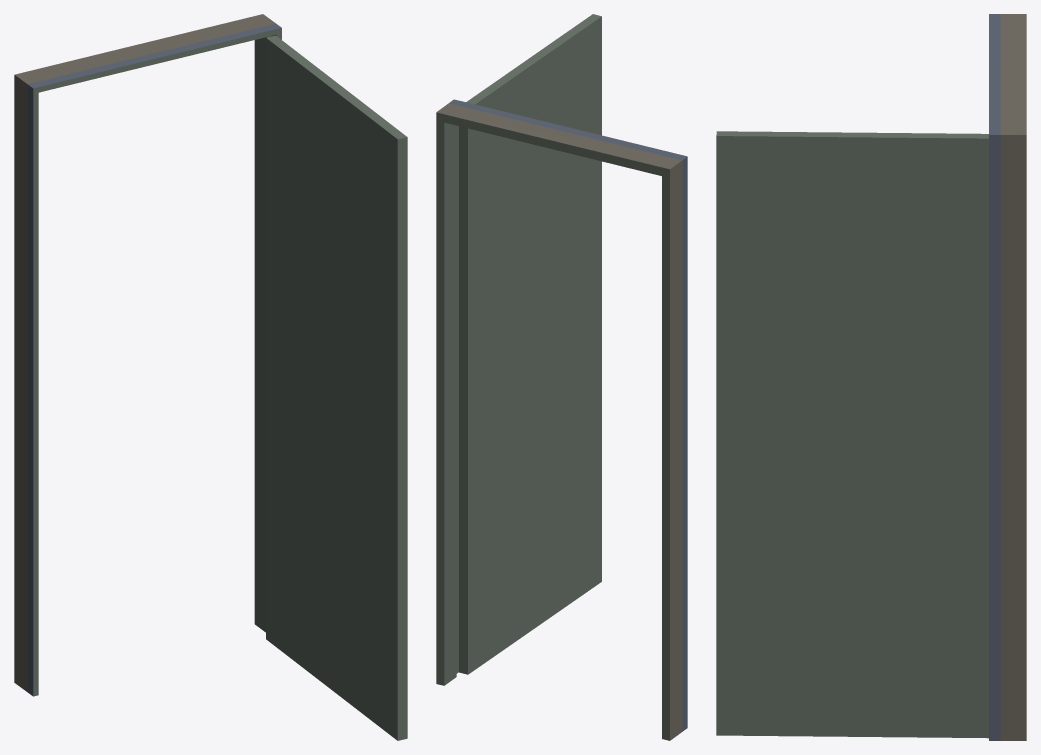
File: Int_Door_Std_Lh.fbx
3 renders of one model, left to right at view 1: azimuth 30°, elevation 25°; view 2: azimuth 150°, elevation 25°; view 3: azimuth 270°, elevation 25°, orthographic. The views are drawn at different scales.
Parts seen in each view (by area): view 1: Int_Door_Std_Lh; view 2: Int_Door_Std_Lh; view 3: Int_Door_Std_Lh.
Boxes of the visible parts, x1=… form: Int_Door_Std_Lh: x1=14, y1=14, x2=407, y2=740; Int_Door_Std_Lh: x1=436, y1=14, x2=687, y2=740; Int_Door_Std_Lh: x1=716, y1=14, x2=1026, y2=740.
Bounding box in the file's own units: 90 × 210 × 97.53.
